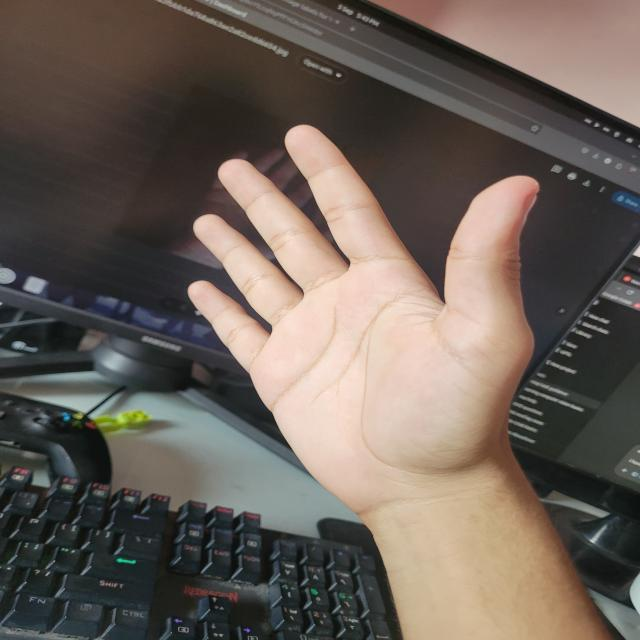Open Hand: (183, 122, 543, 514)
